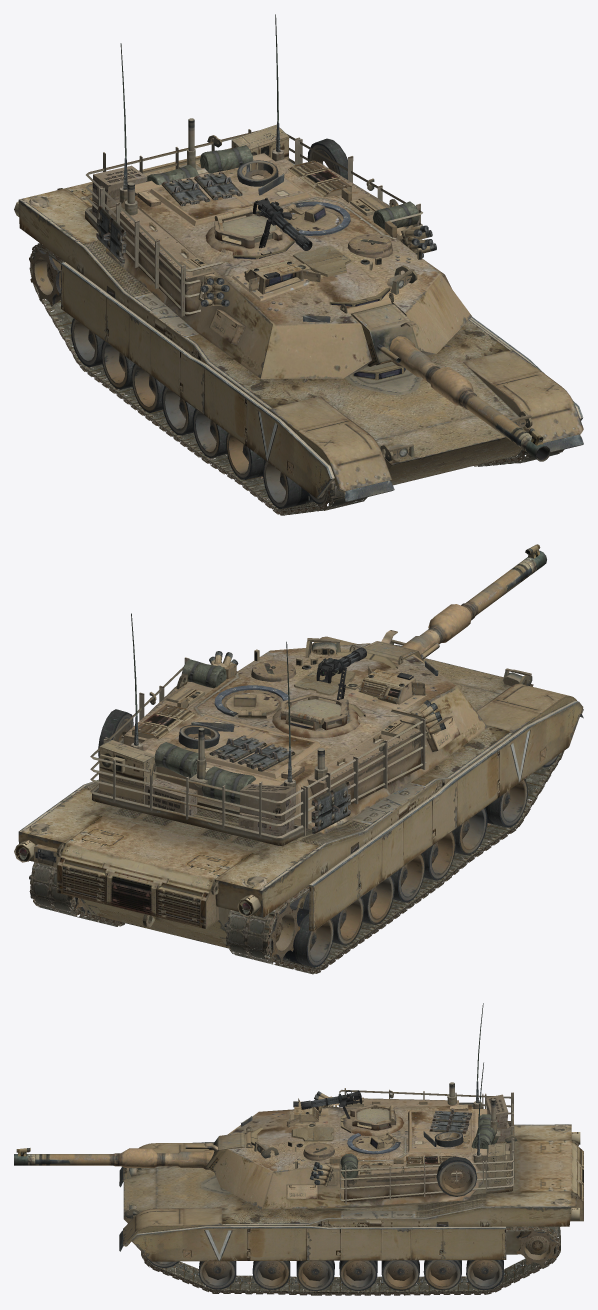
File: battle_tank.glb
3 renders of one model, top to bottom at view 1: azimuth 30°, elevation 25°; view 2: azimuth 150°, elevation 25°; view 3: azimuth 270°, elevation 25°, orthographic. The views are drawn at different scales.
Parts seen in each view (by area): view 1: Object_5, Object_2, Object_3; view 2: Object_5, Object_2, Object_3; view 3: Object_5, Object_2, Object_3.
Part boxes in pixels (bbox=[...]): Object_5: bbox=[14, 14, 583, 508]; Object_2: bbox=[29, 243, 564, 515]; Object_3: bbox=[253, 198, 312, 250]; Object_5: bbox=[14, 544, 583, 967]; Object_2: bbox=[29, 751, 564, 974]; Object_3: bbox=[316, 647, 366, 683]; Object_5: bbox=[14, 1003, 583, 1291]; Object_2: bbox=[141, 1226, 560, 1295]; Object_3: bbox=[300, 1090, 362, 1109].
Bounding box in the file's own units: 252 × 308 × 709.
Materials: 4 (4 with a texture image).
